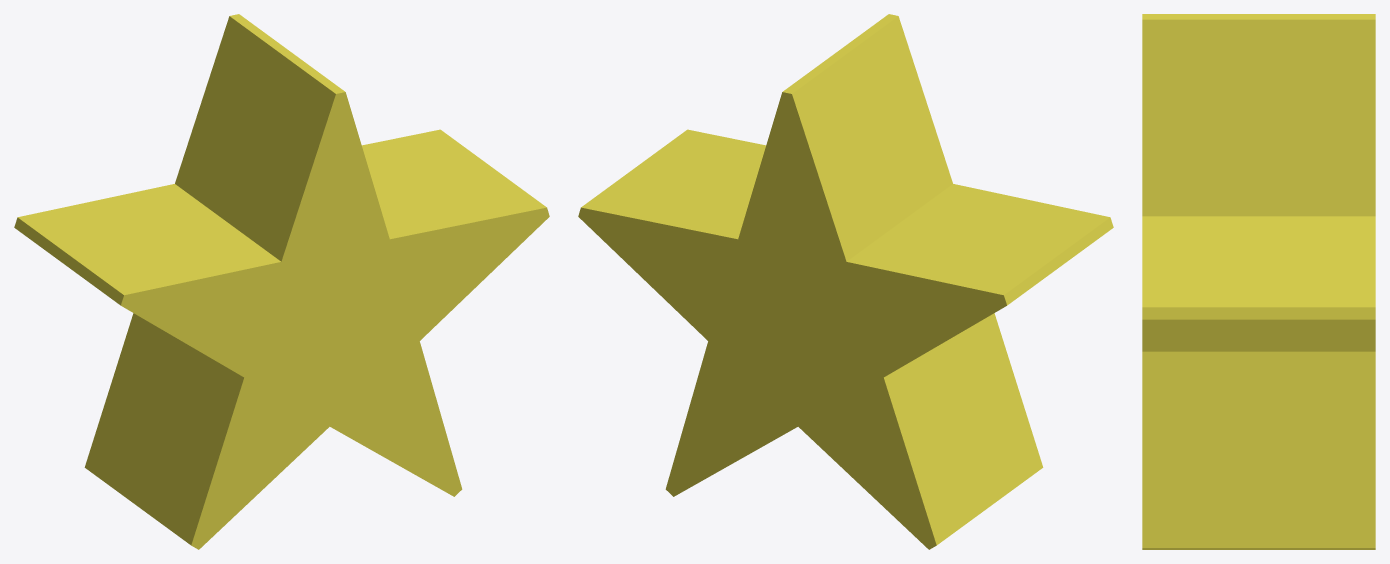
The model's file is star.fbx.
3 renders of one model, left to right at view 1: azimuth 30°, elevation 25°; view 2: azimuth 150°, elevation 25°; view 3: azimuth 270°, elevation 25°, orthographic. The views are drawn at different scales.
Visible parts, largest first — view 1: pCylinder1; view 2: pCylinder1; view 3: pCylinder1.
Boxes of the visible parts, x1,y1,x2,y2 form: pCylinder1: (14,14,549,549); pCylinder1: (578,14,1113,549); pCylinder1: (1142,14,1375,549).
Bounding box in the file's own units: 4.65 × 4.47 × 2.
